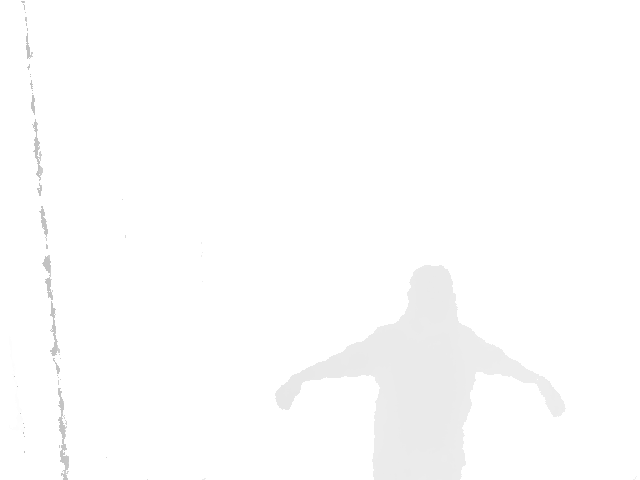head: (406, 265, 459, 328)
person: (275, 265, 566, 480)
